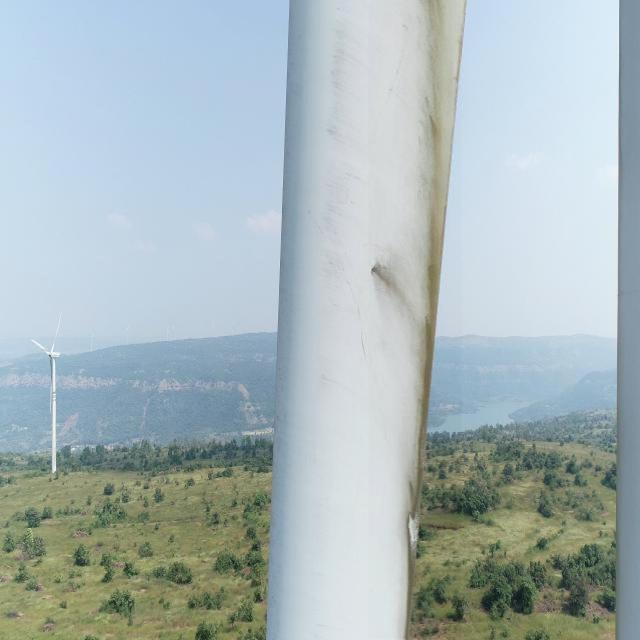Dirt: (366, 0, 446, 640)
Pin Hole: (368, 260, 382, 278)
